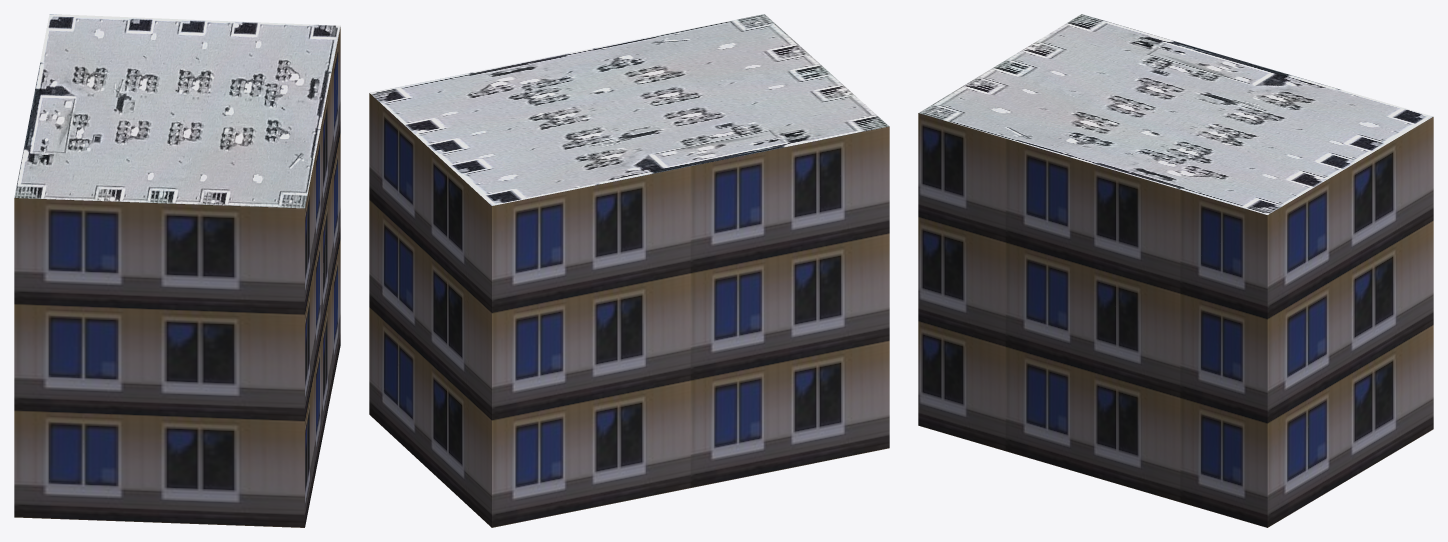
The model's file is ResTex__1863.fbx.
3 views of the same model, side by side, from view 1: azimuth 30°, elevation 25°; view 2: azimuth 150°, elevation 25°; view 3: azimuth 270°, elevation 25° (orthographic). The views are drawn at different scales.
Visible parts, largest first — view 1: CityEngineMaterial_5_m, CityEngineMaterial_2_m; view 2: CityEngineMaterial_5_m, CityEngineMaterial_2_m; view 3: CityEngineMaterial_5_m, CityEngineMaterial_2_m.
Part boxes in pixels (left/top/right/bottom): CityEngineMaterial_5_m: left=14, top=27, right=340, bottom=527; CityEngineMaterial_2_m: left=14, top=14, right=340, bottom=208; CityEngineMaterial_5_m: left=369, top=93, right=889, bottom=527; CityEngineMaterial_2_m: left=370, top=14, right=889, bottom=205; CityEngineMaterial_5_m: left=918, top=113, right=1433, bottom=527; CityEngineMaterial_2_m: left=919, top=14, right=1432, bottom=214.
Bounding box in the file's own units: 12.42 × 9 × 13.43.
2 materials, 2 textured.
